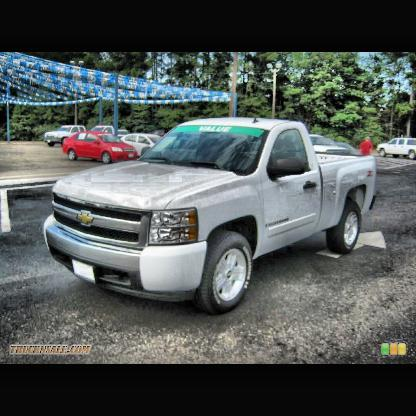Chevrolet Silverado 1500 Regular Cab 2012: (45, 114, 380, 319)
